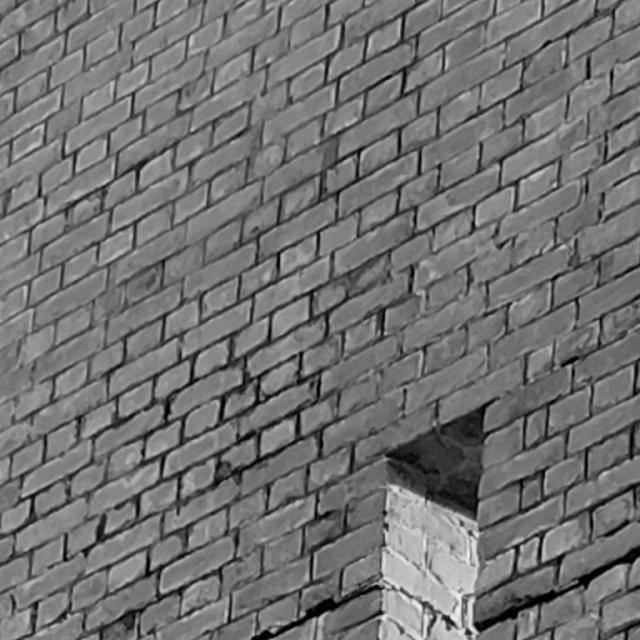crack: (476, 547, 639, 634), (253, 585, 384, 640)
